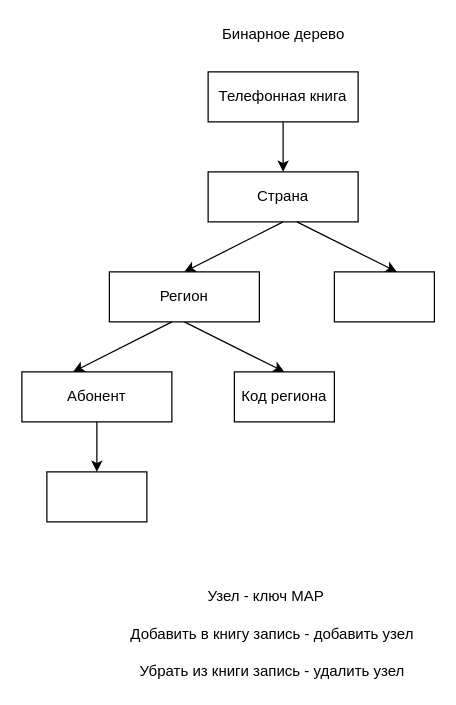
Image size: 456x705. Some labels were removed from this diagram. The box of each missing label's shape, as (x1, y1, x2, y2) in pixels:
Код страны: (333, 271, 434, 322)
номер телефона: (46, 471, 147, 522)
